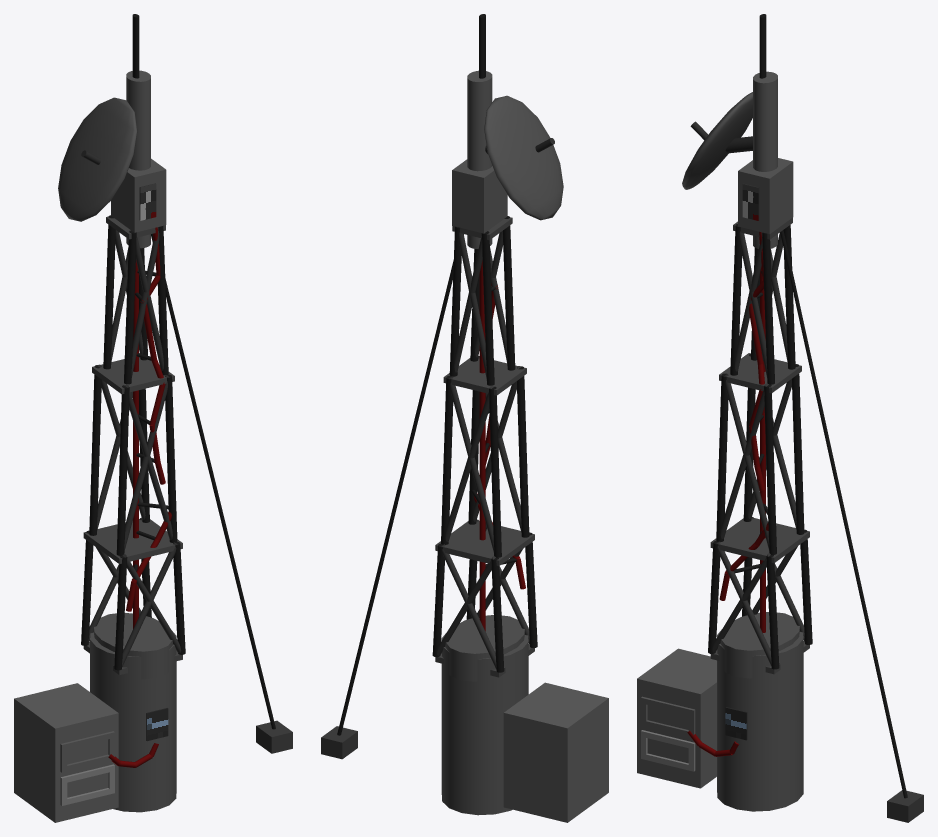
Rendered from CMU3DSensorTowerCloud.glb.
3 views of the same model, side by side, from view 1: azimuth 30°, elevation 25°; view 2: azimuth 150°, elevation 25°; view 3: azimuth 330°, elevation 25° (orthographic).
Visible parts, largest first — view 1: base left control cabinet, round base pedestal, tilted dish bowl, base raised collar, top sensor housing, single source guy cable, upper antenna mast, lattice upright (1, 22, -0.14), lattice cross tie (1, 84), lattice upright (1, 22, 0.14), lattice upright (1, 32, -0.14), lattice cross tie (0, 114) (+21 smaller); view 2: base left control cabinet, round base pedestal, tilted dish bowl, top sensor housing, base raised collar, upper antenna mast, single source guy cable, central tower cable riser, lattice cross tie (1, 84), lattice upright (1, 22, 0.14), lattice upright (1, 22, -0.14), lattice upright (1, 32, 0.14) (+19 smaller); view 3: round base pedestal, base left control cabinet, top sensor housing, base raised collar, single source guy cable, upper antenna mast, tilted dish bowl, lattice cross tie (0, 114), lattice upright (1, 32, -0.14), lattice upright (1, 32, 0.14), lattice upright (1, 22, -0.14), lattice upright (2, 31, -0.105) (+20 smaller).
Part boxes in pixels (x1=…): base left control cabinet: x1=14, y1=683, x2=118, y2=822; round base pedestal: x1=90, y1=631, x2=176, y2=812; tilted dish bowl: x1=58, y1=97, x2=137, y2=221; base raised collar: x1=94, y1=613, x2=172, y2=679; top sensor housing: x1=111, y1=158, x2=166, y2=232; single source guy cable: x1=151, y1=233, x2=275, y2=729; upper antenna mast: x1=126, y1=70, x2=150, y2=248; lattice upright (1, 22, -0.14): x1=116, y1=385, x2=129, y2=555; lattice cross tie (1, 84): x1=92, y1=357, x2=174, y2=394; lattice upright (1, 22, 0.14): x1=89, y1=365, x2=101, y2=535; lattice upright (1, 32, -0.14): x1=165, y1=374, x2=177, y2=542; lattice cross tie (0, 114): x1=83, y1=519, x2=182, y2=564; base left control cabinet: x1=503, y1=682, x2=608, y2=822; round base pedestal: x1=441, y1=633, x2=528, y2=815; tilted dish bowl: x1=484, y1=95, x2=563, y2=220; top sensor housing: x1=452, y1=159, x2=507, y2=233; base raised collar: x1=445, y1=615, x2=524, y2=681; upper antenna mast: x1=467, y1=70, x2=492, y2=248; single source guy cable: x1=337, y1=234, x2=463, y2=735; central tower cable riser: x1=479, y1=260, x2=485, y2=631; lattice cross tie (1, 84): x1=443, y1=358, x2=526, y2=395; lattice upright (1, 22, 0.14): x1=489, y1=386, x2=501, y2=557; lattice upright (1, 22, -0.14): x1=517, y1=366, x2=529, y2=537; lattice upright (1, 32, 0.14): x1=441, y1=376, x2=453, y2=544; round base pedestal: x1=717, y1=629, x2=803, y2=811; base left control cabinet: x1=637, y1=648, x2=716, y2=788; top sensor housing: x1=738, y1=158, x2=793, y2=234; base raised collar: x1=720, y1=612, x2=799, y2=678; single source guy cable: x1=780, y1=230, x2=907, y2=798; upper antenna mast: x1=753, y1=71, x2=777, y2=248; tilted dish bowl: x1=682, y1=92, x2=752, y2=189; lattice cross tie (0, 114): x1=710, y1=518, x2=809, y2=563; lattice upright (1, 32, -0.14): x1=764, y1=384, x2=776, y2=554; lattice upright (1, 32, 0.14): x1=792, y1=364, x2=804, y2=534; lattice upright (1, 22, -0.14): x1=716, y1=373, x2=728, y2=541; lattice upright (2, 31, -0.105): x1=762, y1=232, x2=774, y2=384.
Bounding box in the file's own units: 1.5 × 4.38 × 0.54.
16 materials, 2 textured.
